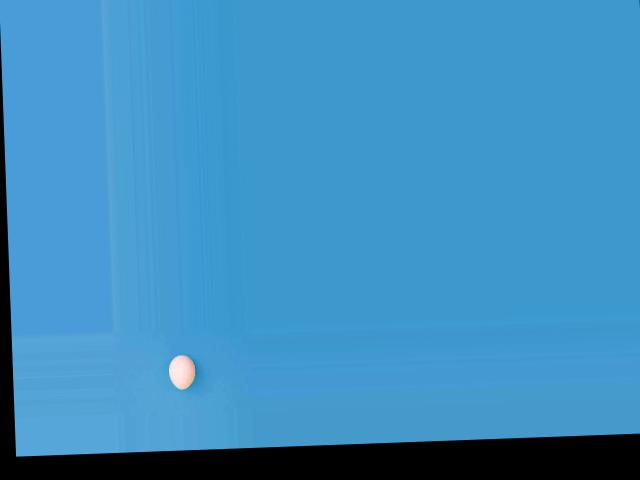egg: (168, 354, 196, 390)
